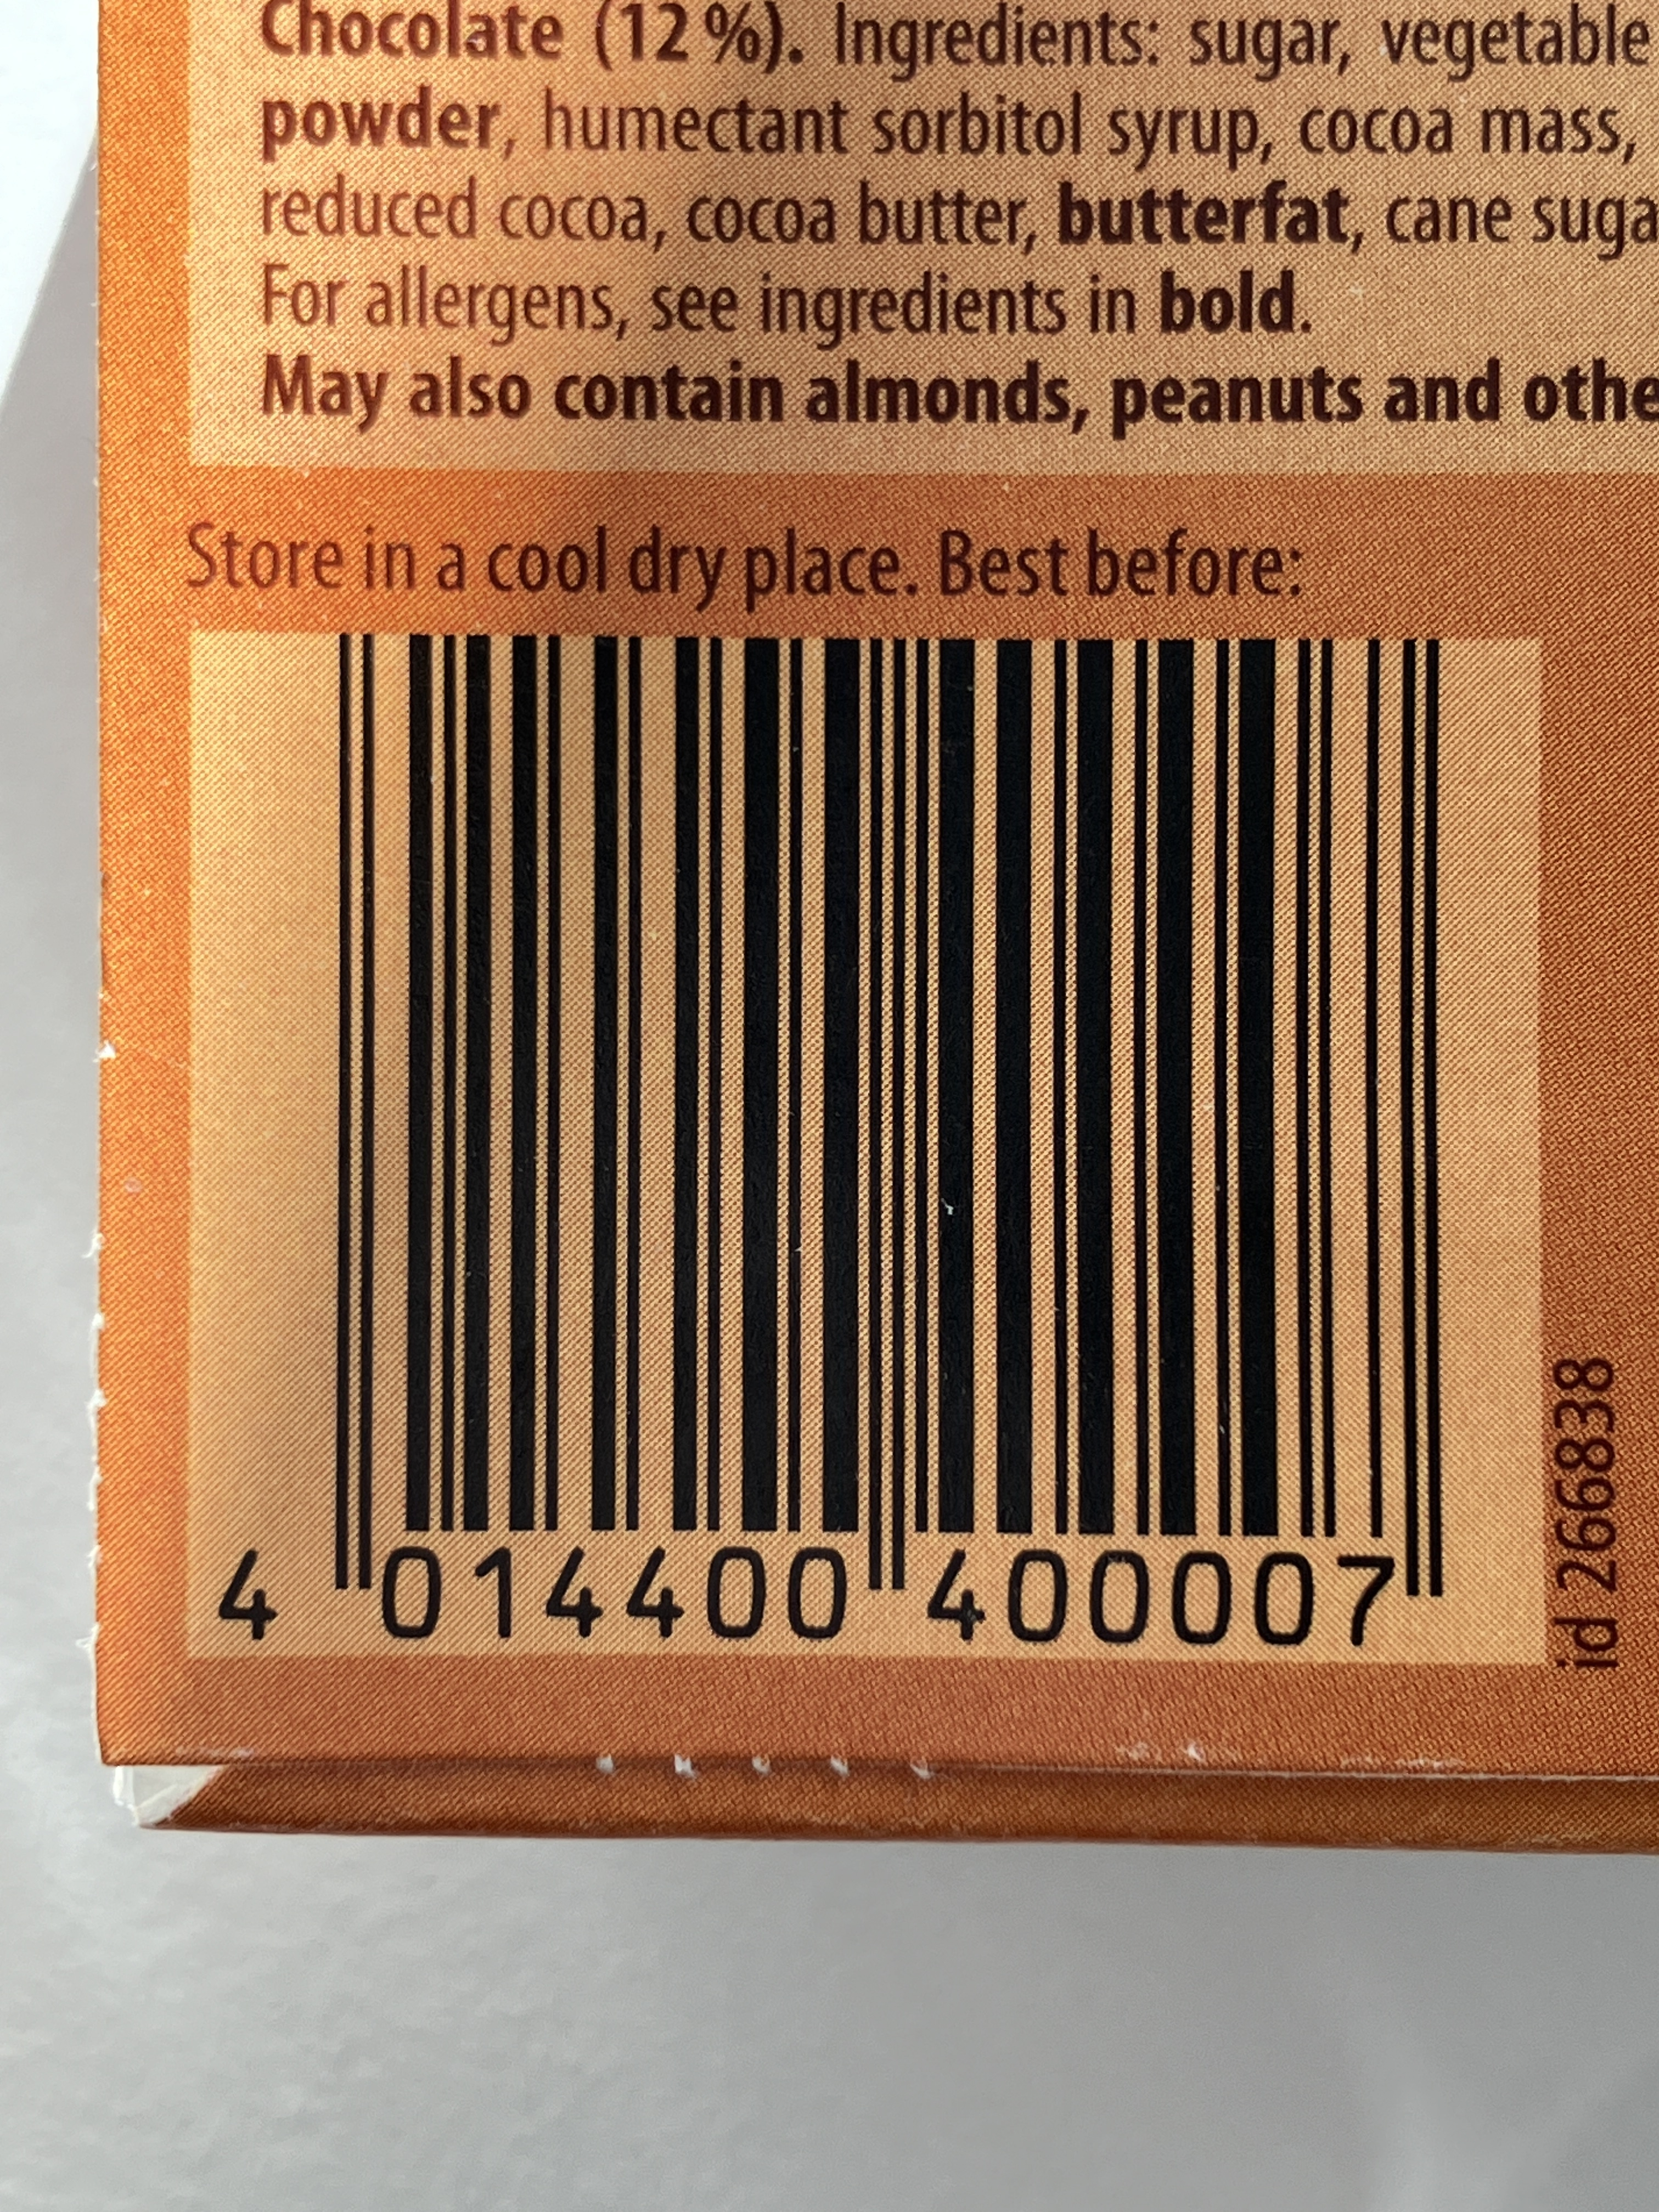1d: (338, 634, 1443, 1592)
